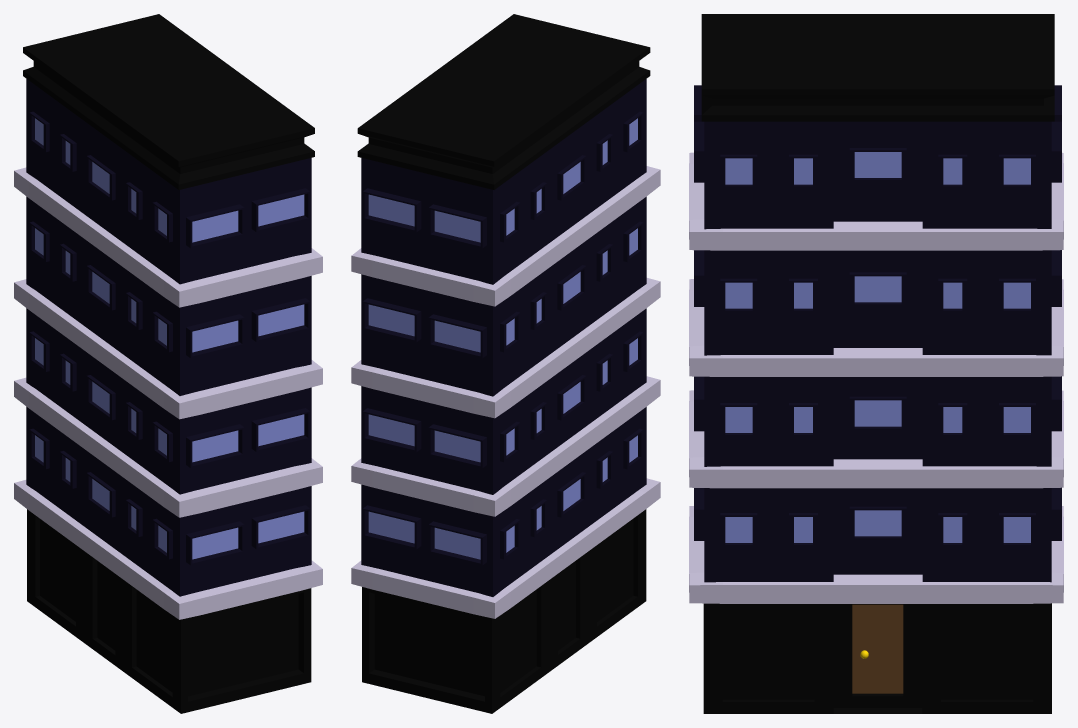
The model's file is blgd_darkhighrise.fbx.
3 views of the same model, side by side, from view 1: azimuth 30°, elevation 25°; view 2: azimuth 150°, elevation 25°; view 3: azimuth 270°, elevation 25° (orthographic). The views are drawn at different scales.
Visible parts, largest first — view 1: Cube.019, Cube.017, Cube.015, Cube.014, Cube.018, Cube.016, Cube.020, Cube.024, Cube.021, Cube.022; view 2: Cube.019, Cube.017, Cube.015, Cube.014, Cube.018, Cube.016, Cube.022, Cube.021, Cube.020, Cube.024; view 3: Cube.017, Cube.015, Cube.019, Cube.014, Cube.018, Cube.016, Cube.022, Cube.020, Cube.021, Cube.024.
Boxes of the visible parts, x1=… form: Cube.019: x1=23, y1=14, x2=314, y2=189; Cube.017: x1=26, y1=79, x2=311, y2=284; Cube.015: x1=27, y1=509, x2=311, y2=713; Cube.014: x1=26, y1=196, x2=311, y2=395; Cube.018: x1=26, y1=406, x2=311, y2=596; Cube.016: x1=26, y1=308, x2=311, y2=494; Cube.020: x1=14, y1=377, x2=322, y2=517; Cube.024: x1=14, y1=480, x2=322, y2=619; Cube.021: x1=14, y1=279, x2=322, y2=419; Cube.022: x1=14, y1=167, x2=322, y2=307; Cube.019: x1=357, y1=14, x2=650, y2=189; Cube.017: x1=361, y1=79, x2=646, y2=284; Cube.015: x1=362, y1=509, x2=646, y2=713; Cube.014: x1=361, y1=196, x2=646, y2=396; Cube.018: x1=361, y1=407, x2=646, y2=596; Cube.016: x1=361, y1=308, x2=646, y2=494; Cube.022: x1=351, y1=166, x2=660, y2=306; Cube.021: x1=351, y1=278, x2=660, y2=418; Cube.020: x1=351, y1=376, x2=660, y2=516; Cube.024: x1=351, y1=478, x2=660, y2=618; Cube.017: x1=694, y1=85, x2=1061, y2=229; Cube.015: x1=703, y1=603, x2=1051, y2=713; Cube.019: x1=701, y1=14, x2=1054, y2=121; Cube.014: x1=694, y1=250, x2=1061, y2=355; Cube.018: x1=694, y1=487, x2=1061, y2=582; Cube.016: x1=694, y1=376, x2=1061, y2=466; Cube.022: x1=689, y1=152, x2=1063, y2=250; Cube.020: x1=689, y1=390, x2=1063, y2=488; Cube.021: x1=689, y1=279, x2=1063, y2=376; Cube.024: x1=689, y1=506, x2=1063, y2=603.
Bounding box in the file's own units: 1.08 × 3.94 × 2.14.
